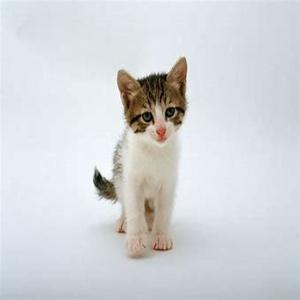cat: (121, 67, 179, 253)
